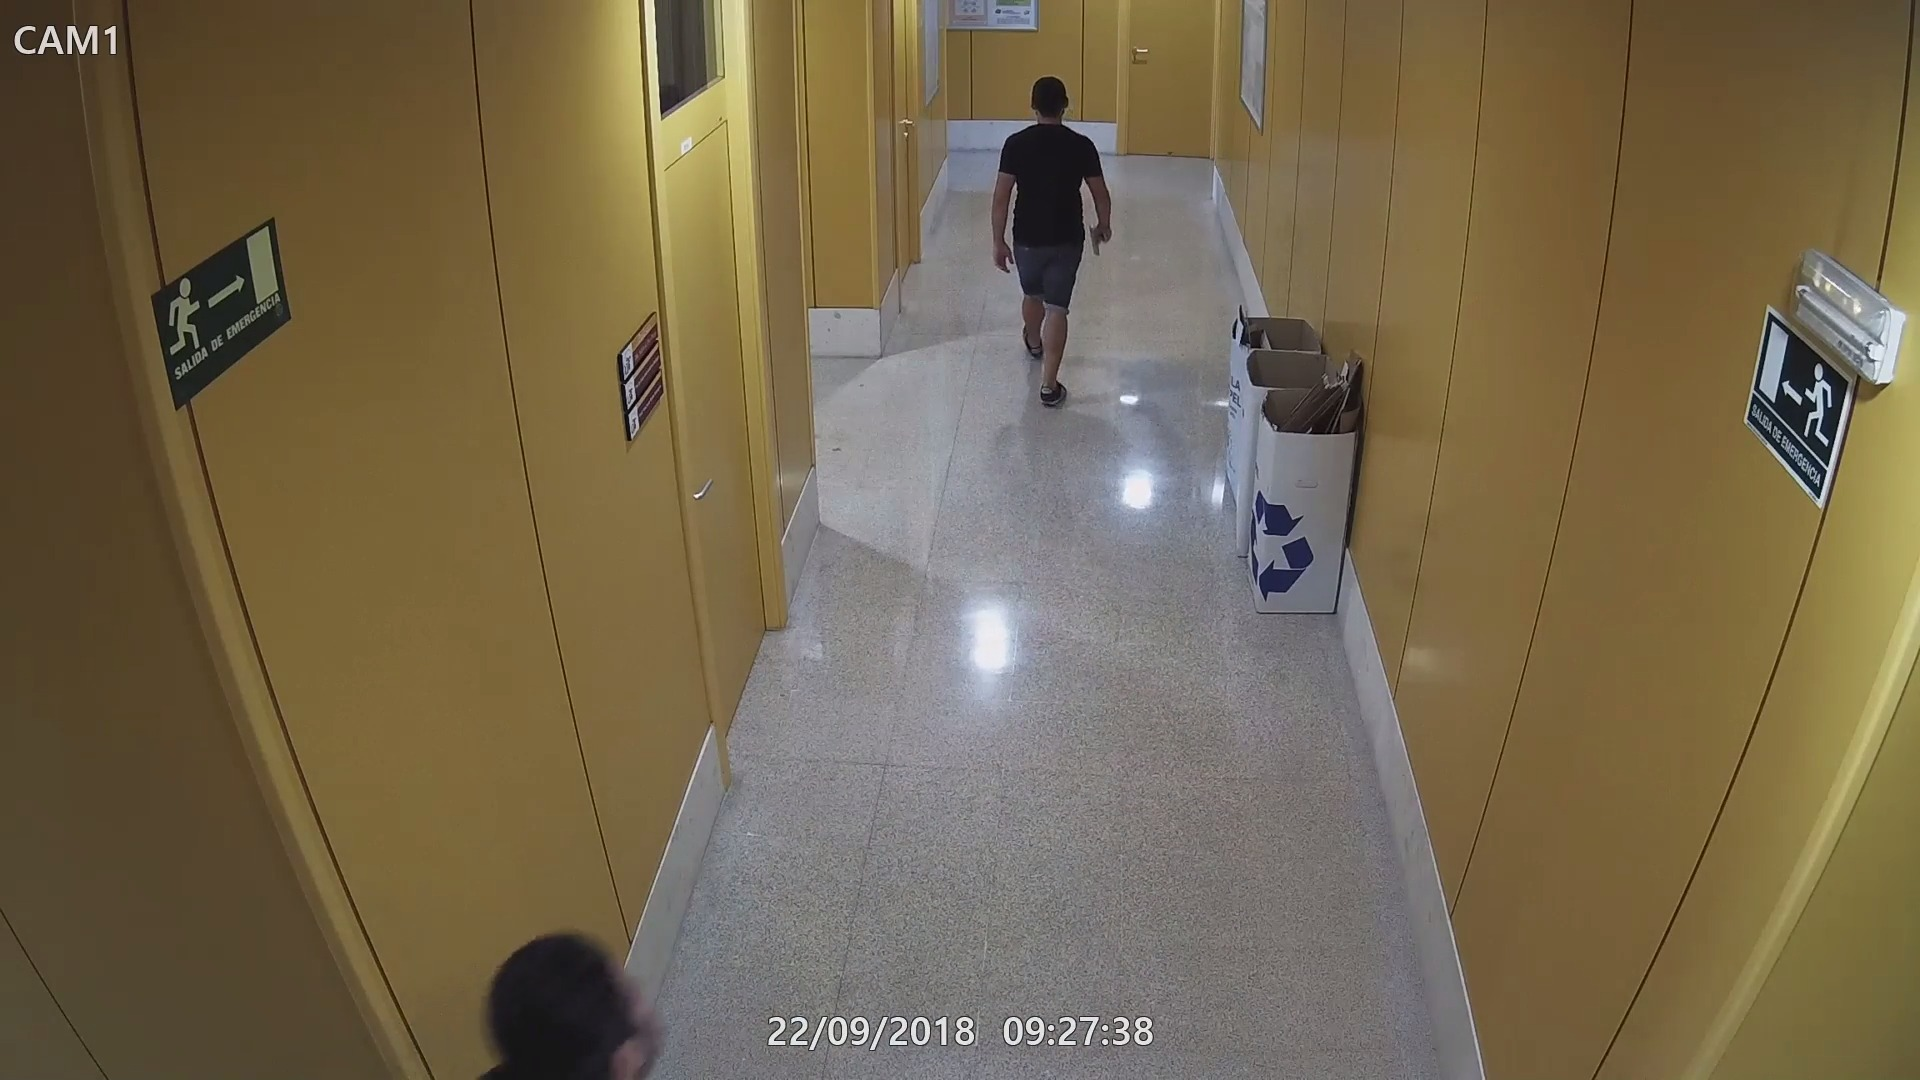Handgun: (1085, 216, 1116, 260)
